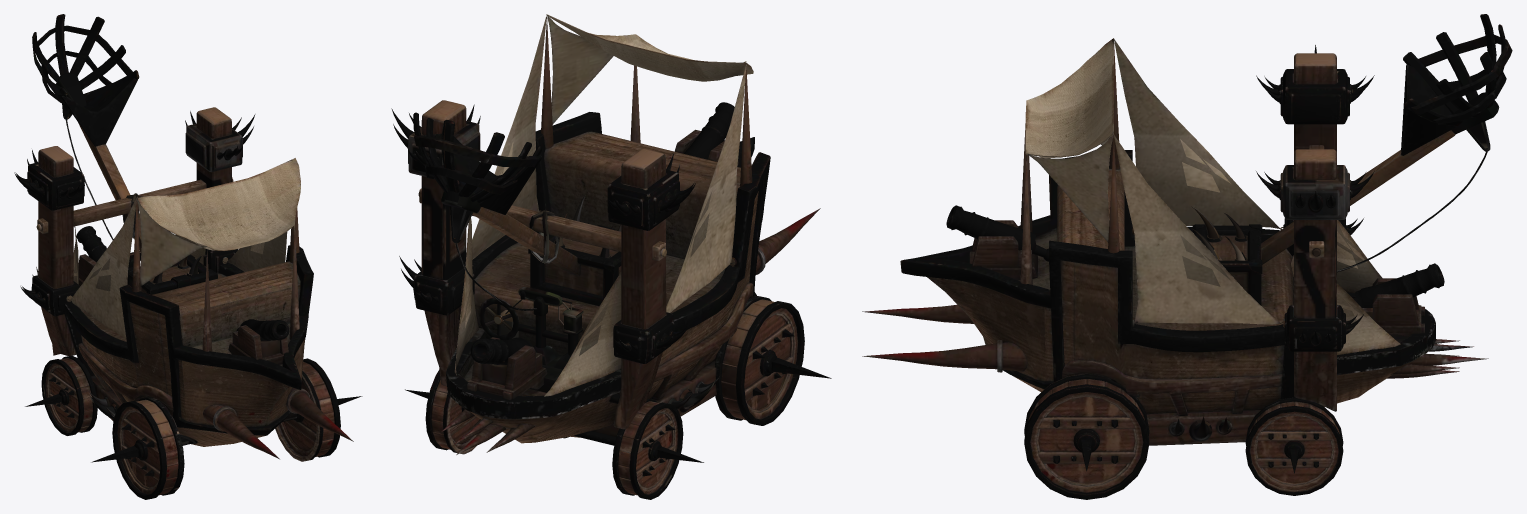
Rendered from viking.glb.
3 views of the same model, side by side, from view 1: azimuth 30°, elevation 25°; view 2: azimuth 150°, elevation 25°; view 3: azimuth 270°, elevation 25° (orthographic). The views are drawn at different scales.
Visible parts, largest first — view 1: Viking_Fixed_Body, Wheel_FL, Wheel_RL, Wheel_FR; view 2: Viking_Fixed_Body, Wheel_FL, Wheel_RL, Wheel_RR; view 3: Viking_Fixed_Body, Wheel_FR, Wheel_RR.
Boxes of the visible parts, x1=… form: Viking_Fixed_Body: x1=14, y1=14, x2=353, y2=459; Wheel_FL: x1=91, y1=397, x2=184, y2=499; Wheel_RL: x1=25, y1=355, x2=97, y2=435; Wheel_FR: x1=275, y1=358, x2=362, y2=461; Viking_Fixed_Body: x1=391, y1=14, x2=820, y2=454; Wheel_FL: x1=715, y1=295, x2=831, y2=425; Wheel_RL: x1=612, y1=398, x2=703, y2=499; Wheel_RR: x1=405, y1=369, x2=479, y2=454; Viking_Fixed_Body: x1=862, y1=14, x2=1512, y2=445; Wheel_FR: x1=1024, y1=373, x2=1149, y2=499; Wheel_RR: x1=1245, y1=397, x2=1343, y2=495.
Size of the model in its own units: 1.2 by 1.43 by 2.
Materials: 1 (1 with a texture image).
